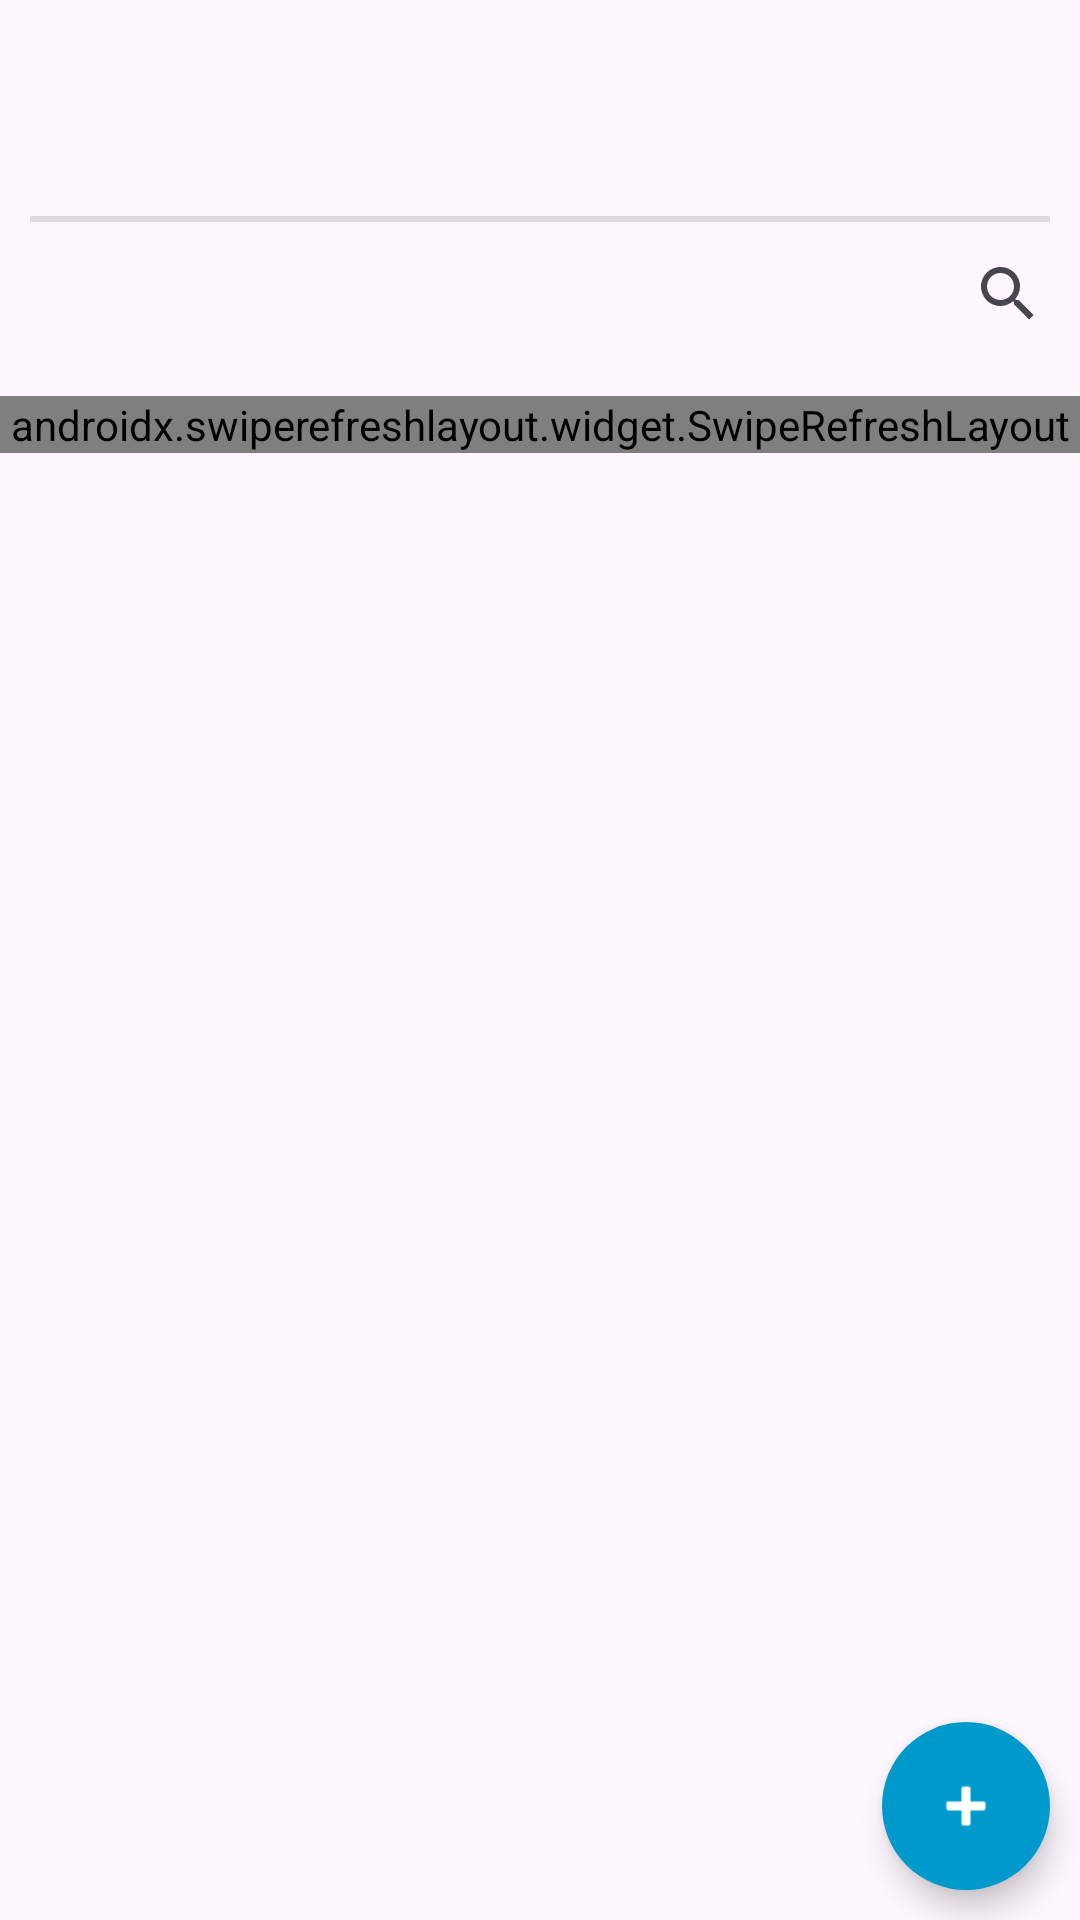

Locate icon controls on the screen. Image size 1080×1920, boxes as BBox(x1, y1, x2, y2).
Añadir nuevo pago conjunto: BBox(882, 1722, 1050, 1890)
